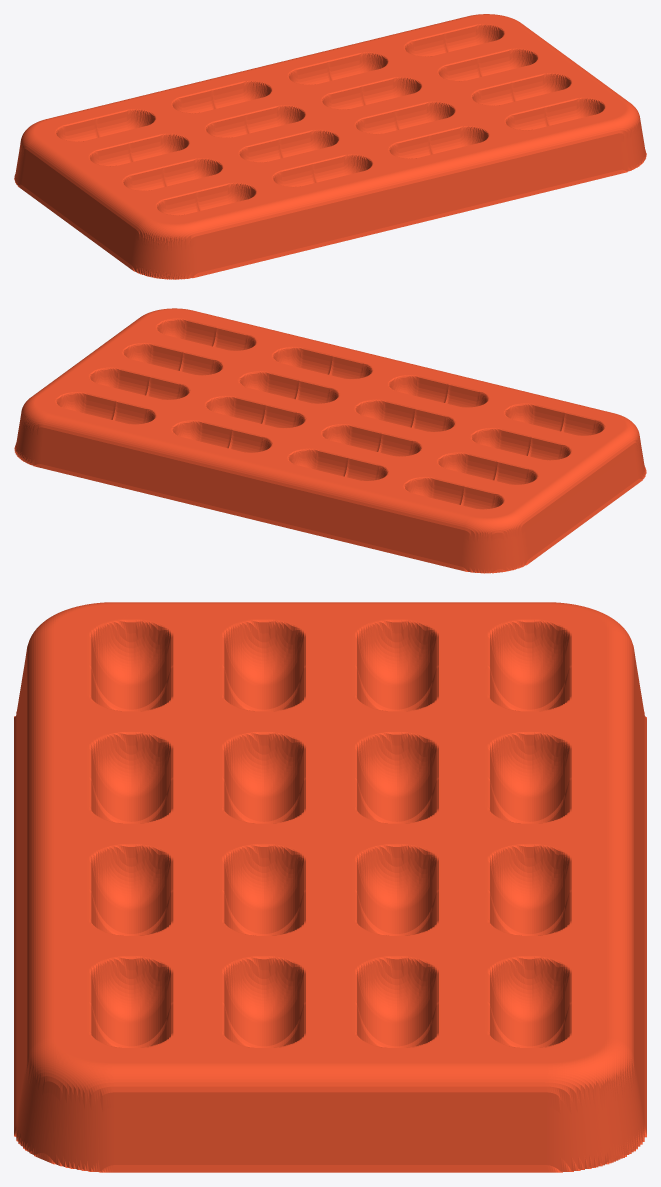
Rendered from mold.glb.
The picture shows the model from 3 angles, top to bottom: view 1: azimuth 30°, elevation 25°; view 2: azimuth 150°, elevation 25°; view 3: azimuth 270°, elevation 25°; orthographic projection. The views are drawn at different scales.
Parts seen in each view (by area): view 1: geometry_0; view 2: geometry_0; view 3: geometry_0.
Part boxes in pixels (x1,y1,x2,y2): geometry_0: [14, 14, 646, 279]; geometry_0: [14, 308, 646, 573]; geometry_0: [14, 602, 646, 1172].
Size of the model in its own units: 0.1052 by 0.00926 by 0.0572.
